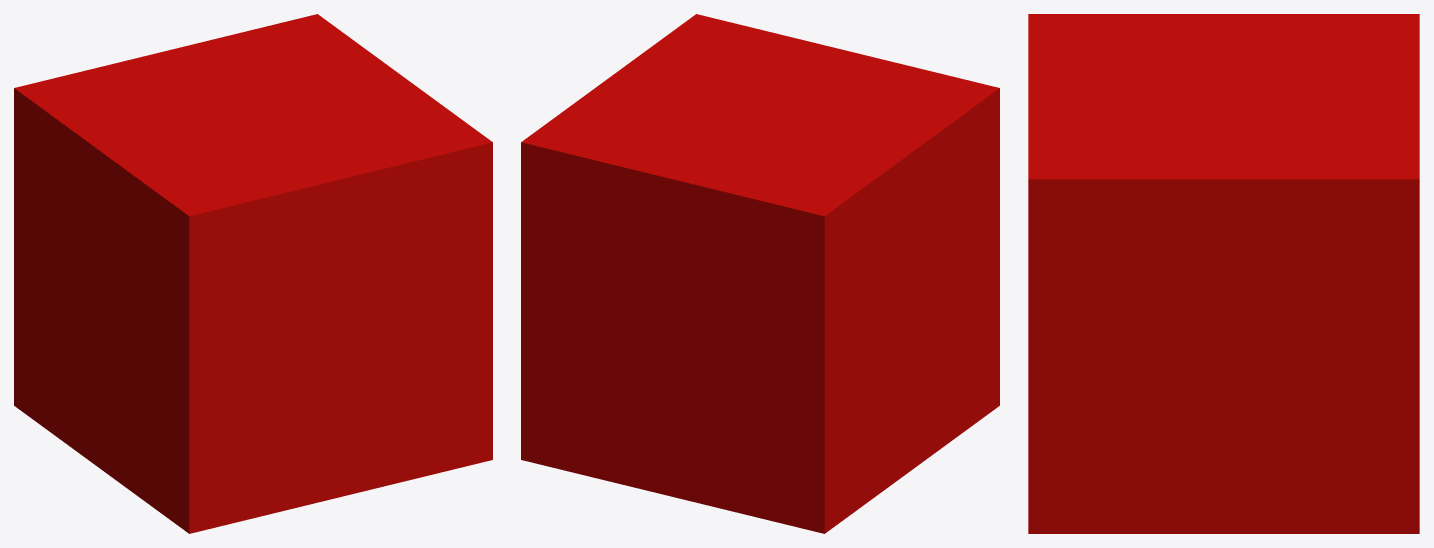
Rendered from CubeStatic.gltf.
The picture shows the model from 3 angles, left to right: view 1: azimuth 30°, elevation 25°; view 2: azimuth 150°, elevation 25°; view 3: azimuth 270°, elevation 25°; orthographic projection. The views are drawn at different scales.
Parts seen in each view (by area): view 1: Cube.001; view 2: Cube.001; view 3: Cube.001.
Part boxes in pixels (x1,y1,x2,y2): Cube.001: (14, 14, 492, 533); Cube.001: (521, 14, 999, 533); Cube.001: (1028, 14, 1419, 533).
Bounding box in the file's own units: 2 × 2 × 2.
